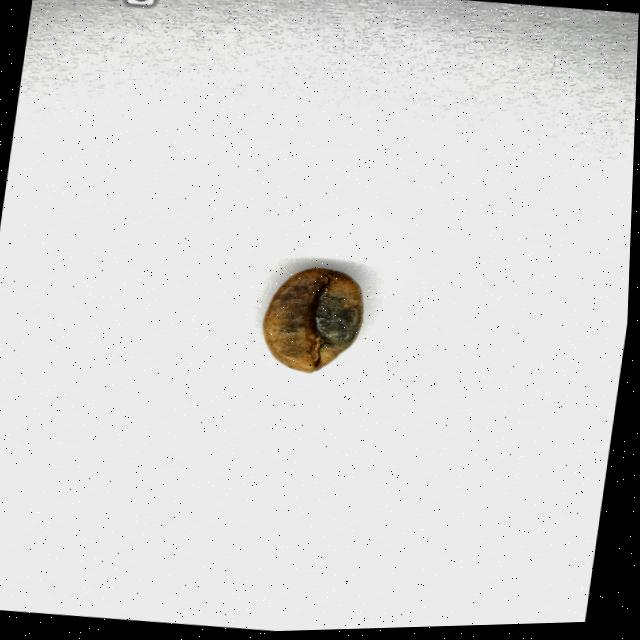Scorched: (257, 264, 374, 380)
